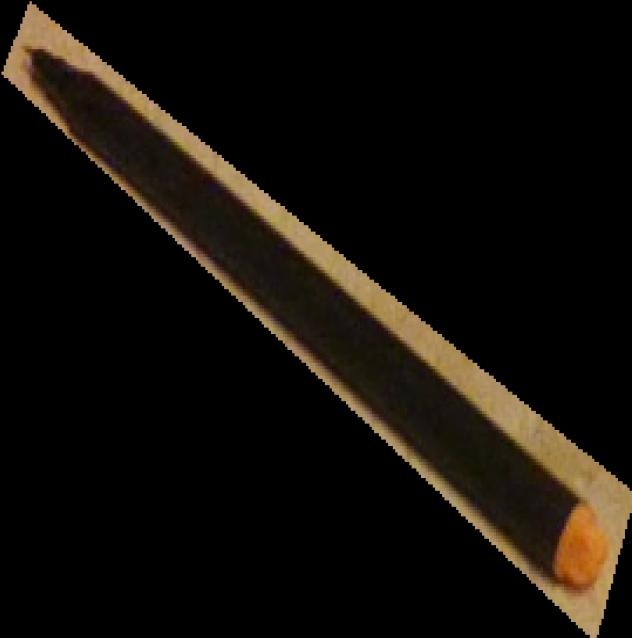orange: (1, 0, 632, 638)
